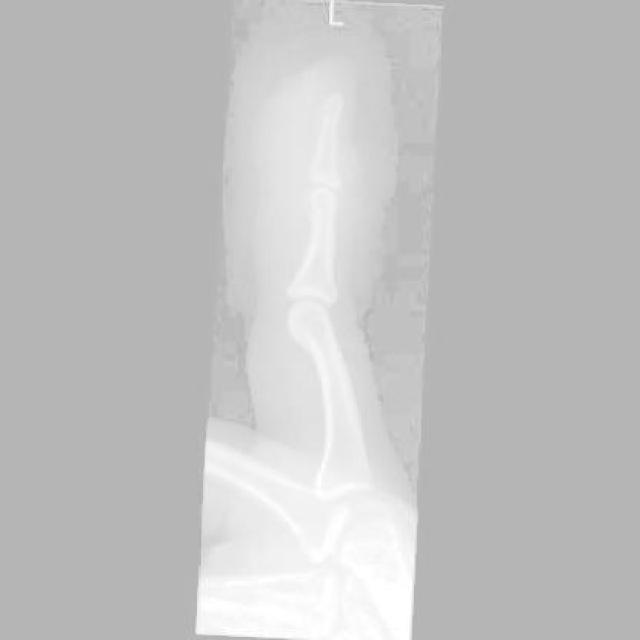Fracture: (313, 106, 339, 140)
